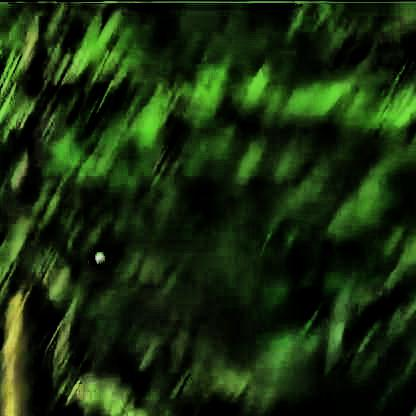golfball: (92, 248, 105, 261)
